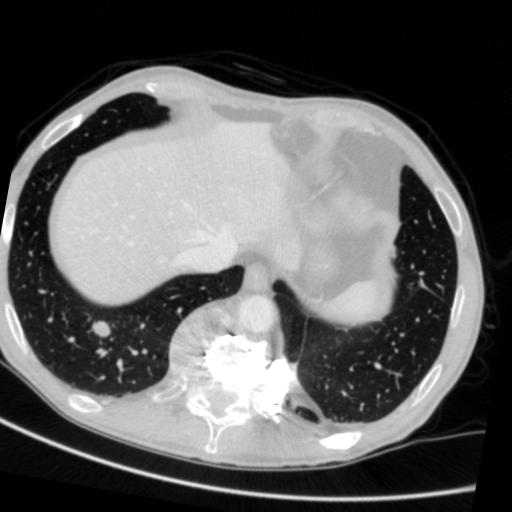nodule: (90, 317, 114, 341)
